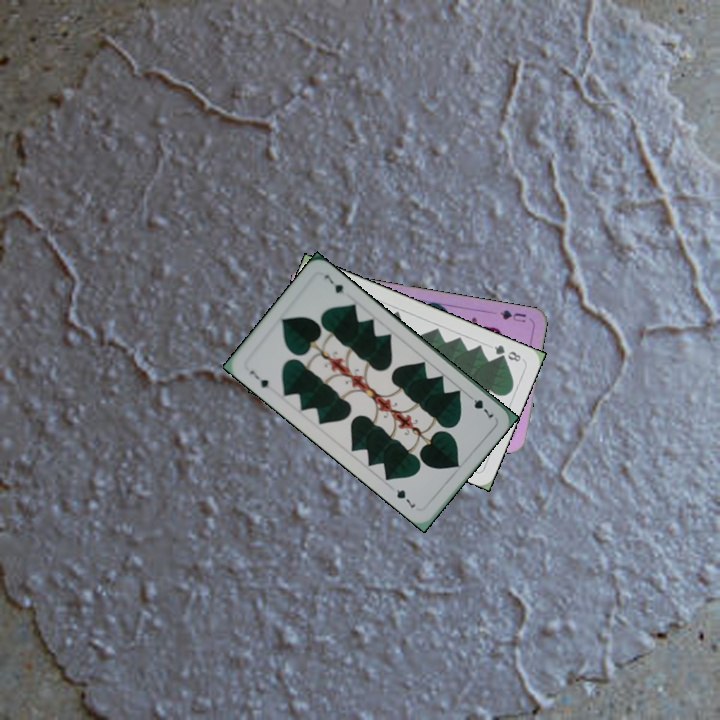G7: (463, 390, 497, 421), (246, 366, 271, 391)
G8: (490, 341, 525, 364)
GU: (496, 306, 528, 325)
